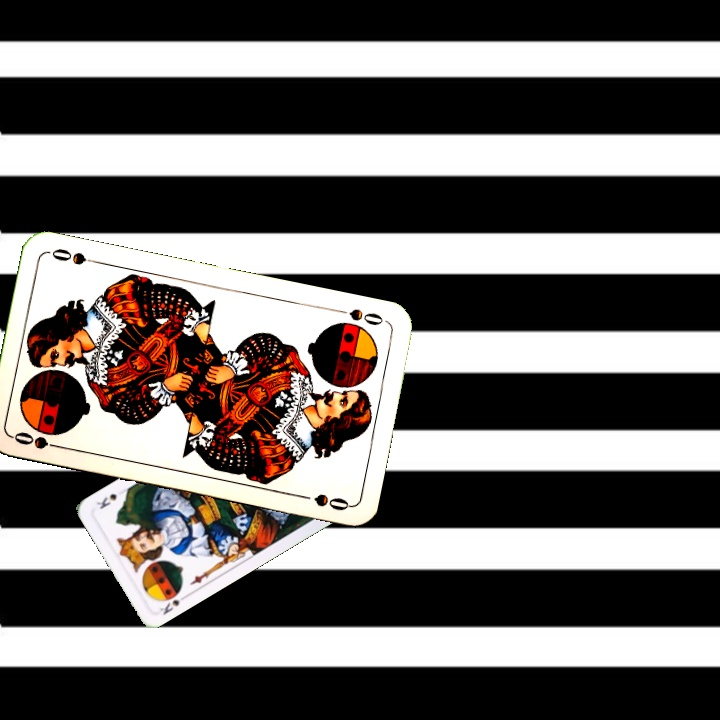SK: (155, 590, 190, 617)
SO: (9, 427, 67, 452), (331, 304, 389, 328)
